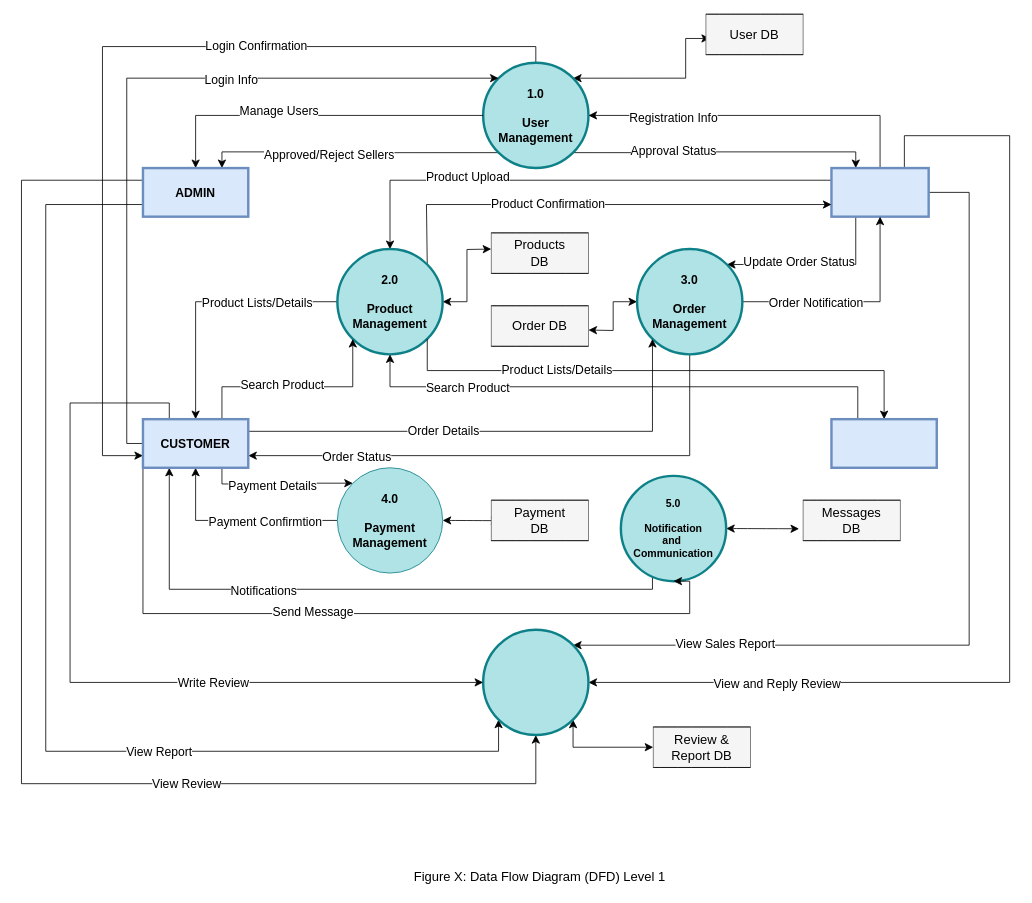
Some shapes in this 1032 by 903 pixel diagram are drawn without their labels. The shapes that lost their labels are listed below. From the top down, each one's box as (x1, y1, x2, y2) in pixels, then its label:
(830, 166, 929, 217): SELLER
(830, 418, 938, 469): GUEST
(482, 628, 589, 736): 6.0 Review and Analytics
